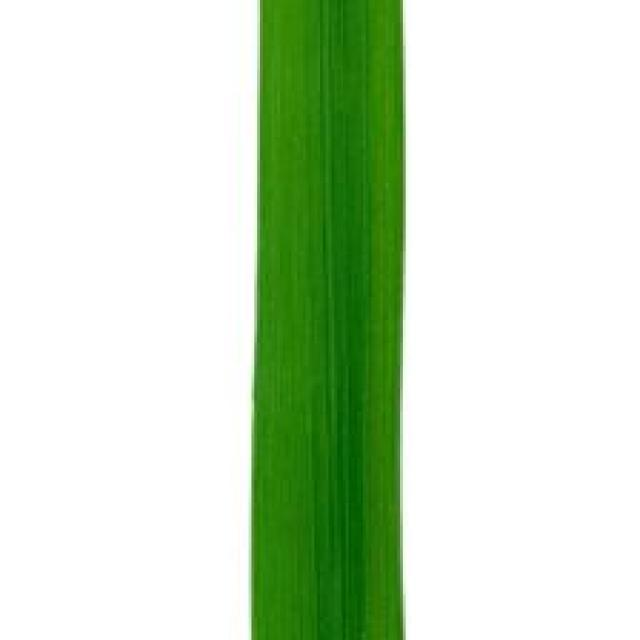Rice___Healthy_Rice_Plant: (250, 0, 408, 637)
